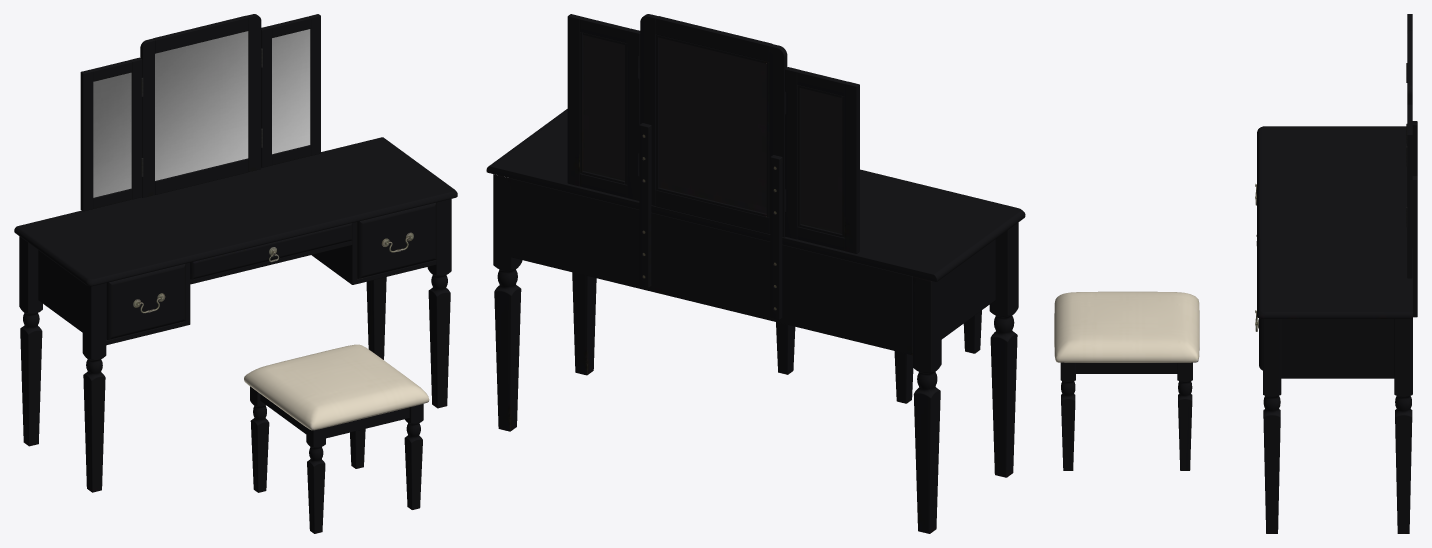
File: abo-B07BL5VTQX.glb
3 renders of one model, left to right at view 1: azimuth 30°, elevation 25°; view 2: azimuth 150°, elevation 25°; view 3: azimuth 270°, elevation 25°, orthographic. The views are drawn at different scales.
Bounding box in the file's own units: 1.37 × 1.31 × 1.11.
Materials: 1 (1 with a texture image).
